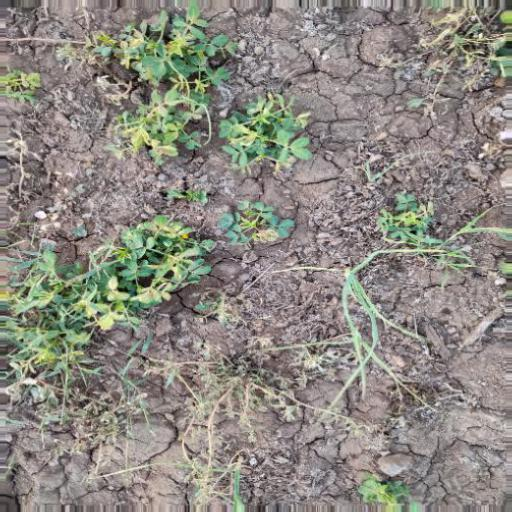weed: (65, 11, 319, 165), (5, 219, 259, 357), (393, 3, 512, 122), (362, 182, 472, 287)
